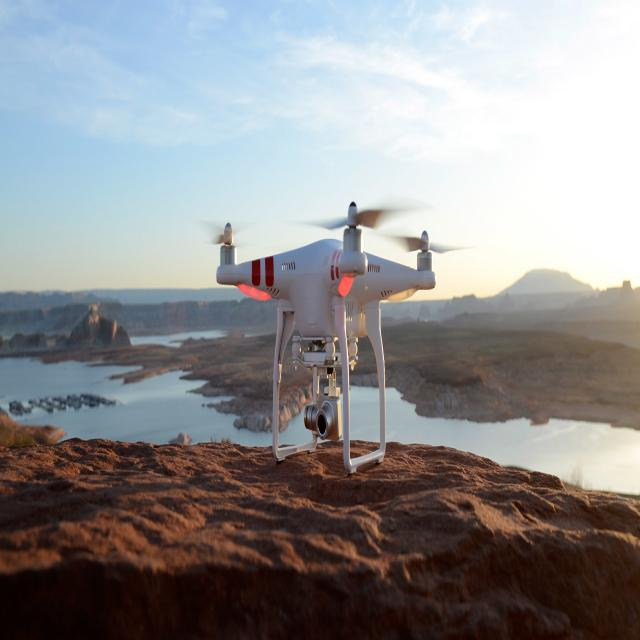drones: (191, 187, 475, 480)
